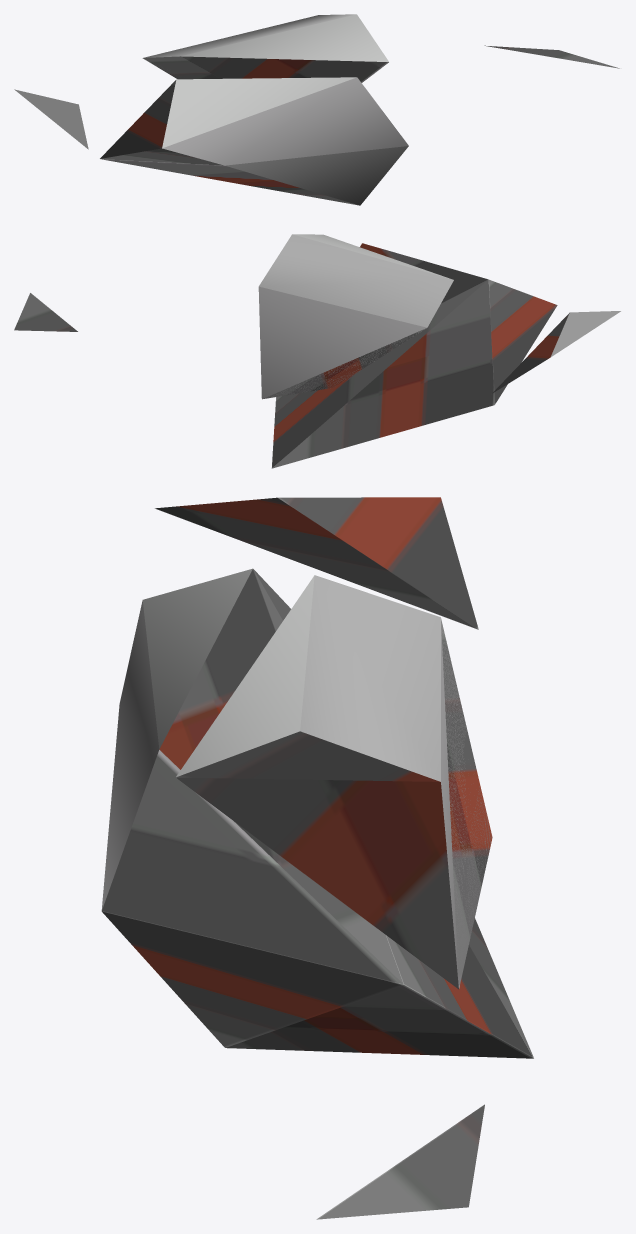
Rendered from G2Tank.fbx.
The picture shows the model from 3 angles, top to bottom: view 1: azimuth 30°, elevation 25°; view 2: azimuth 150°, elevation 25°; view 3: azimuth 270°, elevation 25°; orthographic projection. The views are drawn at different scales.
Visible parts, largest first — view 1: GTank_cell.016, GTank_cell.003, GTank_cell.002, GTank_cell.011; view 2: GTank_cell.016, GTank_cell.003, GTank_cell.002, GTank_cell.011; view 3: GTank_cell.016, GTank_cell.003, GTank_cell.002, GTank_cell.011.
Boxes of the visible parts, left/top/right/bottom form: GTank_cell.016: left=100, top=77, right=408, bottom=205; GTank_cell.003: left=142, top=14, right=388, bottom=82; GTank_cell.002: left=14, top=89, right=88, bottom=149; GTank_cell.011: left=484, top=45, right=619, bottom=68; GTank_cell.016: left=271, top=243, right=557, bottom=468; GTank_cell.003: left=258, top=234, right=453, bottom=399; GTank_cell.002: left=492, top=311, right=620, bottom=393; GTank_cell.011: left=14, top=293, right=77, bottom=331; GTank_cell.016: left=101, top=568, right=533, bottom=1058; GTank_cell.003: left=176, top=575, right=492, bottom=989; GTank_cell.002: left=155, top=497, right=478, bottom=629; GTank_cell.011: left=316, top=1104, right=484, bottom=1219.
Size of the model in its own units: 4.84 by 1.53 by 1.65.
